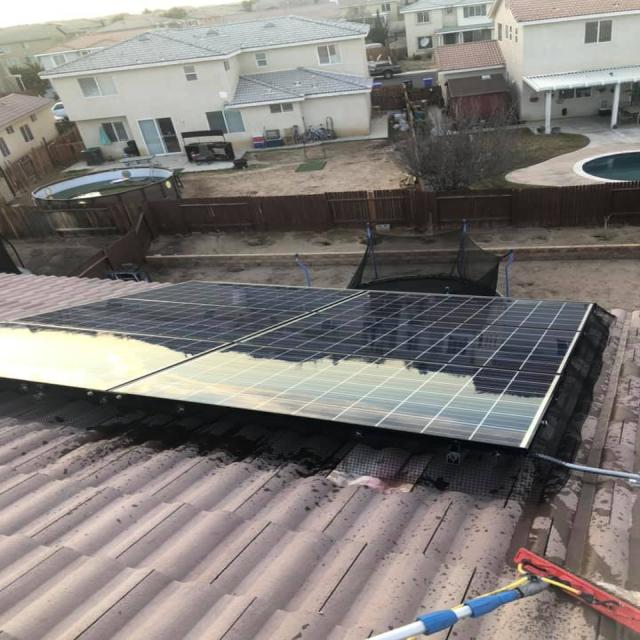clean-solar-panel: (2, 282, 600, 449)
